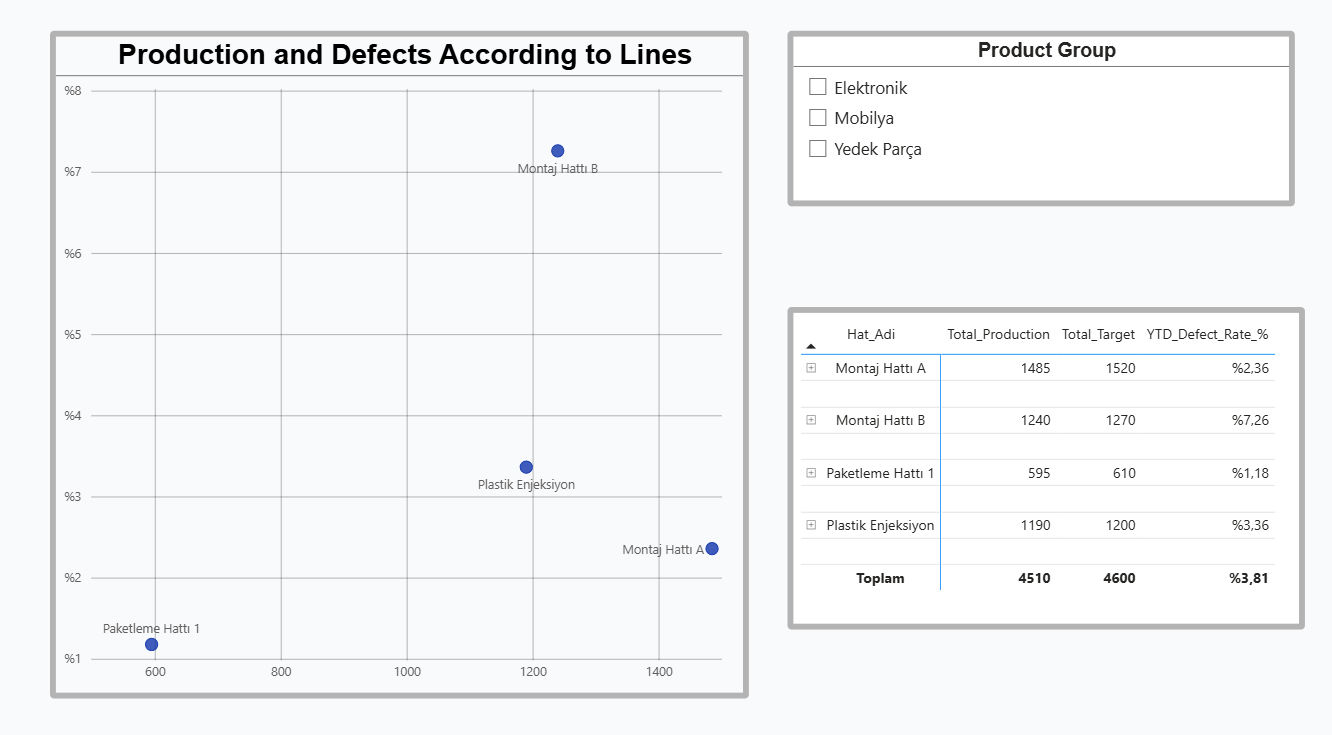

What the dashboard file says about the page in this screenshot:
{"tool":"powerbi","page":{"name":"Line & Quality Detail","canvas":[1280,720],"ordinal":1},"visuals":[{"type":"pivotTable","fields":{"Rows":["ProductionLines.Hat_Adi","ProductionLines.Urun_Grubu"],"Values":["_Measures.Total_Production","_Measures.Total_Target","_Measures.YTD_Defect_Rate_%"]},"box":[760,300,492.9,307.1],"z":0},{"type":"scatterChart","title":"Production and Defects According to Lines","fields":{"X":["_Measures.Total_Production"],"Y":["_Measures.YTD_Defect_Rate_%"],"Category":["ProductionLines.Hat_Adi"]},"box":[57.1,37.1,665.7,635.7],"z":1},{"type":"slicer","title":"Product Group","fields":{"Values":["ProductionLines.Urun_Grubu"]},"box":[760,37.1,482.9,167.1],"z":2}]}

Visuals, with their boxes in screenshot pixels (x1, y1, x2, y2), scaled from the page's 1280x720 canvas onto the 1332x735 screenshot:
pivotTable - ProductionLines.Hat_Adi x ProductionLines.Urun_Grubu: bbox(791, 306, 1304, 620)
"Production and Defects According to Lines" scatterChart: bbox(59, 38, 752, 687)
"Product Group" slicer: bbox(791, 38, 1293, 208)
